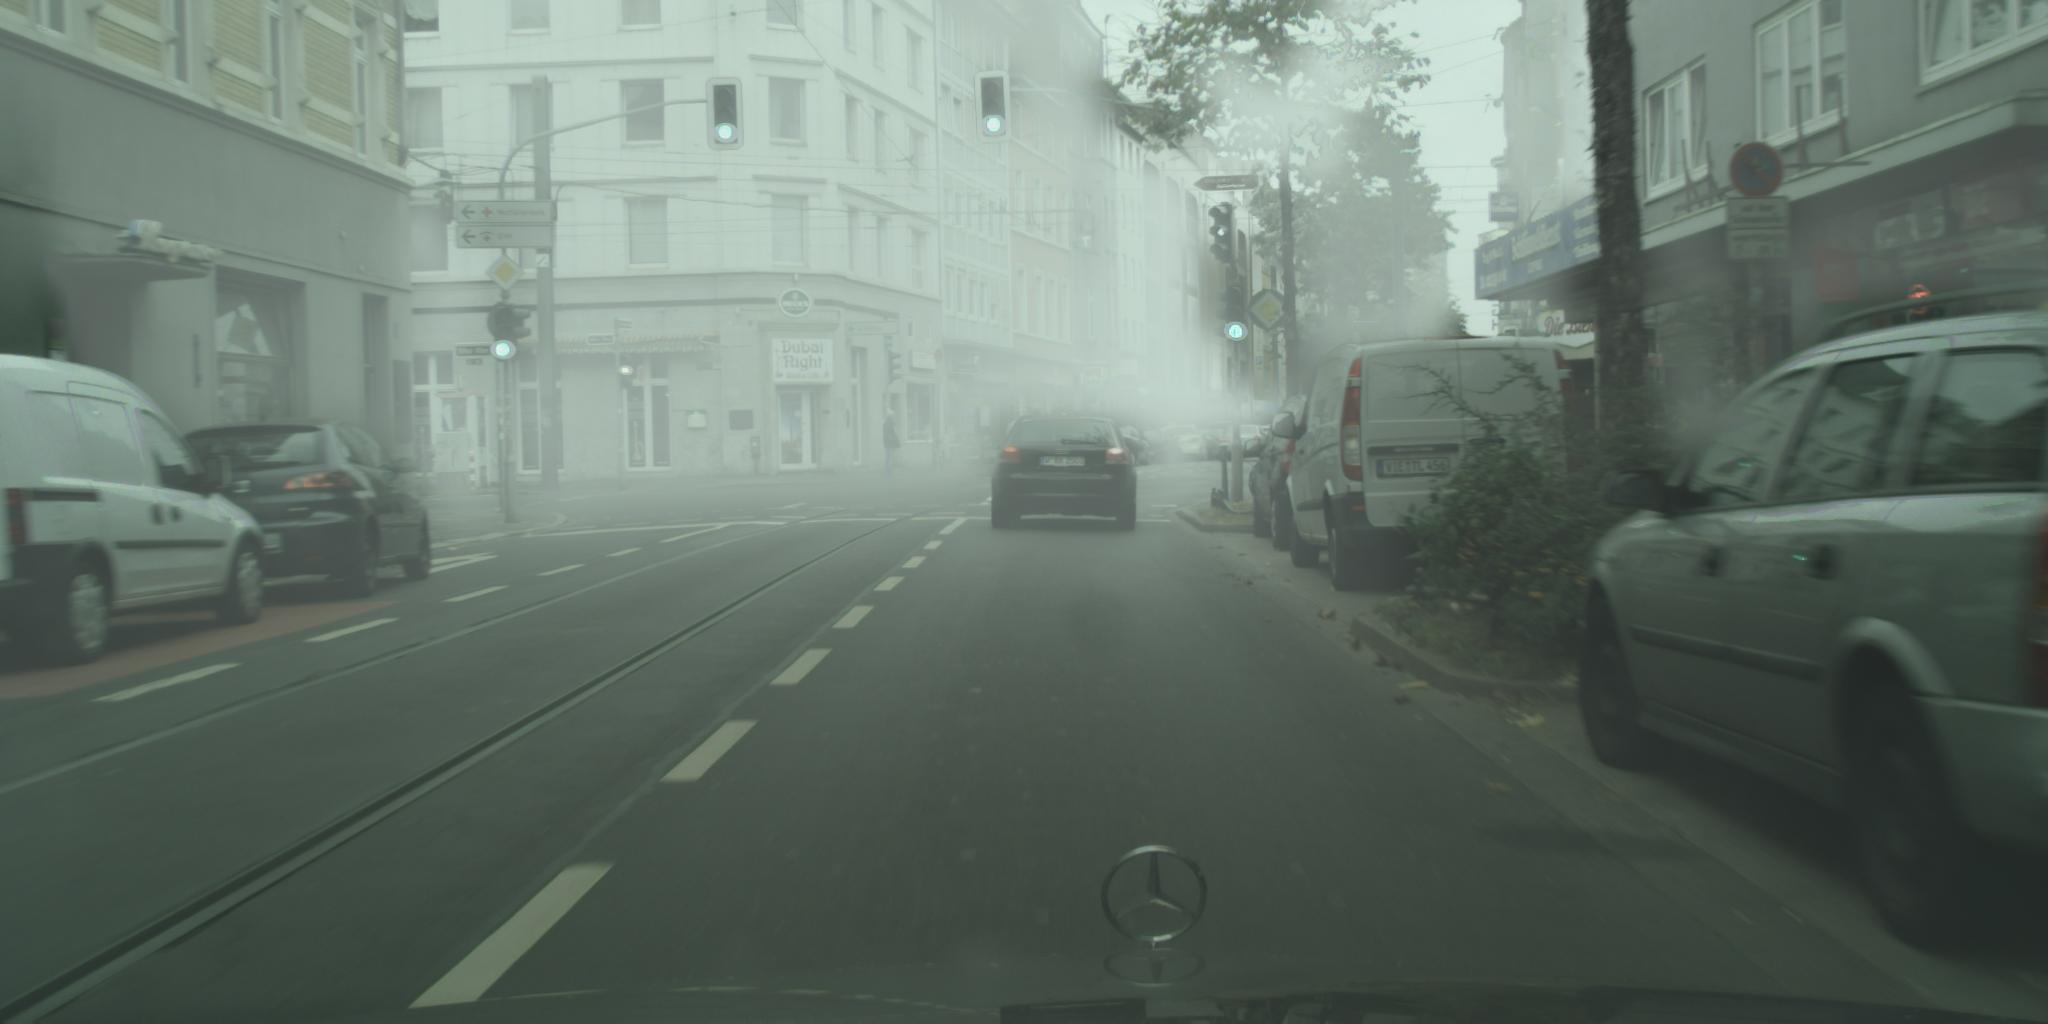bicycle: (923, 434, 951, 478)
car: (1578, 280, 2048, 955), (1, 354, 268, 664), (1270, 336, 1584, 592), (182, 415, 434, 600), (991, 411, 1145, 533), (1243, 393, 1322, 554), (1106, 424, 1162, 469), (1139, 428, 1185, 468), (1202, 418, 1249, 453), (1166, 424, 1209, 462), (1224, 423, 1266, 458), (1190, 430, 1234, 460), (1251, 424, 1281, 448)
